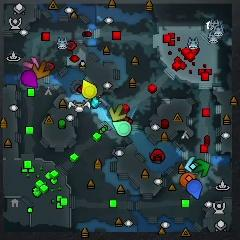p1: (186, 179, 202, 198)
p2: (112, 120, 131, 136)
p3: (21, 71, 38, 87)
p4: (81, 79, 98, 100)
p5: (180, 172, 197, 189)
x1: (23, 56, 39, 71)
x2: (109, 104, 127, 121)
x3: (184, 156, 197, 173)
x4: (190, 159, 213, 178)
x5: (31, 60, 51, 78)
